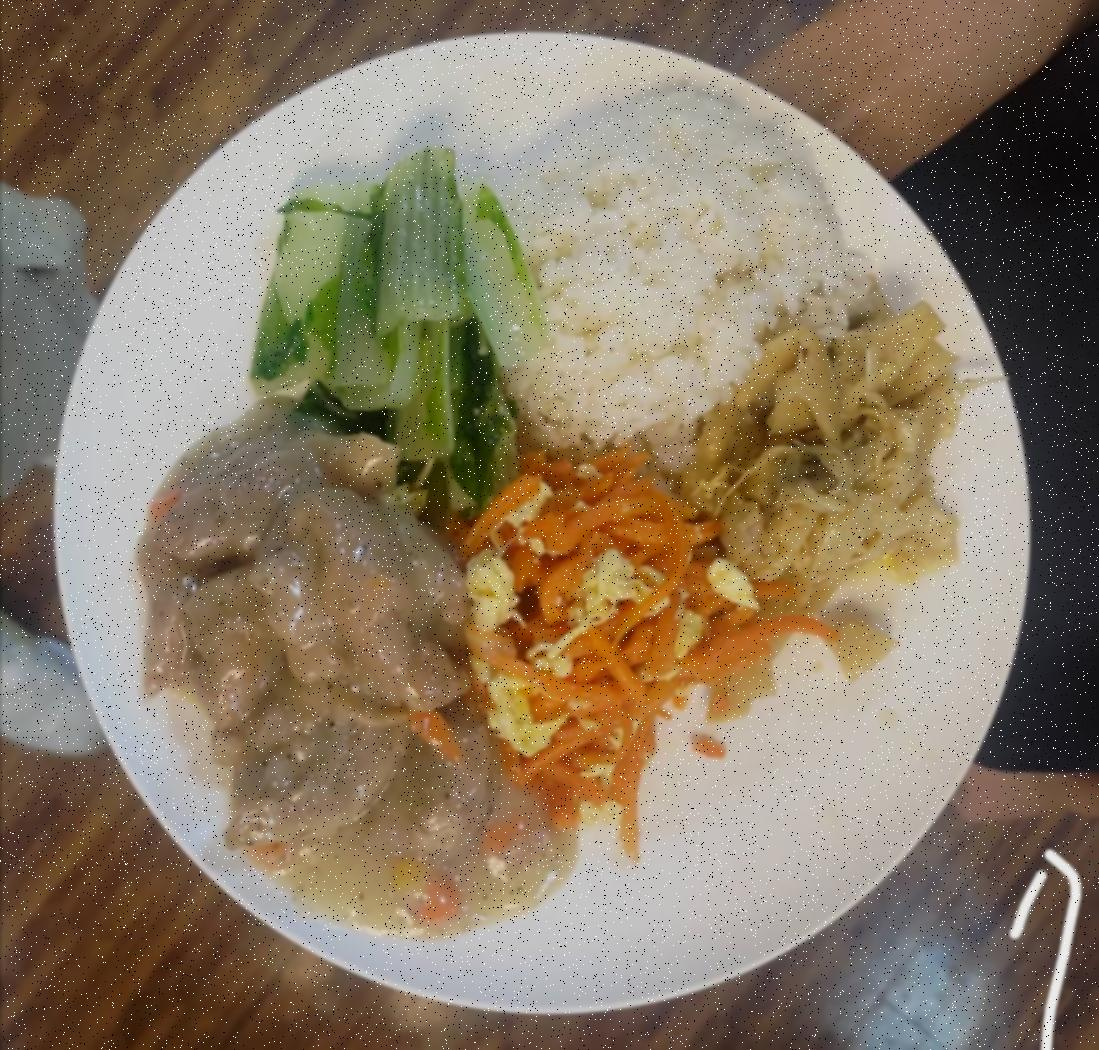big fried chicken leg: (50, 23, 1040, 1013)
big herbal chicken leg: (479, 73, 833, 446)
braised fish fillet: (443, 446, 713, 798), (689, 303, 973, 609), (266, 155, 524, 476)
braised pork: (138, 408, 575, 921)
